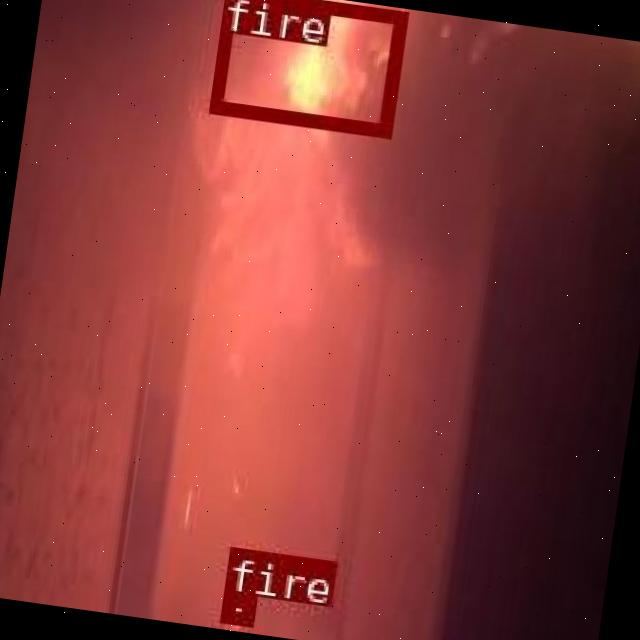fire: (207, 0, 404, 134), (219, 591, 254, 623)
